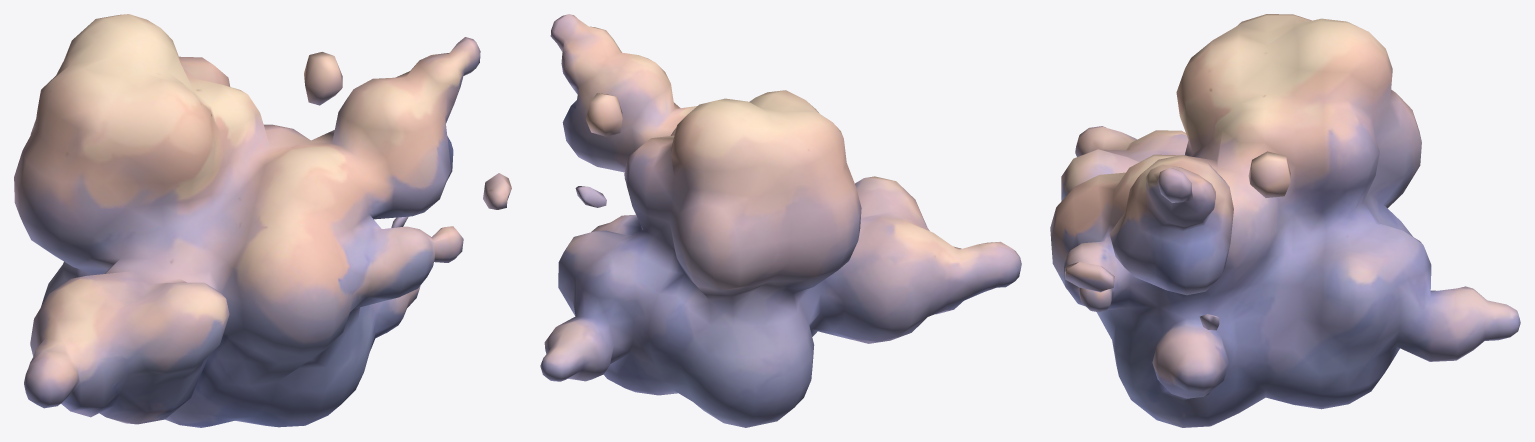
File: SM_Cloud_06.fbx
The picture shows the model from 3 angles, left to right: view 1: azimuth 30°, elevation 25°; view 2: azimuth 150°, elevation 25°; view 3: azimuth 270°, elevation 25°; orthographic projection. The views are drawn at different scales.
Parts seen in each view (by area): view 1: SM_Cloud_06; view 2: SM_Cloud_06; view 3: SM_Cloud_06.
Part boxes in pixels (x1=…): SM_Cloud_06: x1=14, y1=14, x2=511, y2=427; SM_Cloud_06: x1=540, y1=14, x2=1021, y2=427; SM_Cloud_06: x1=1050, y1=14, x2=1520, y2=427.
Size of the model in its own units: 113 by 80.82 by 97.77.
Materials: 1 (1 with a texture image).
